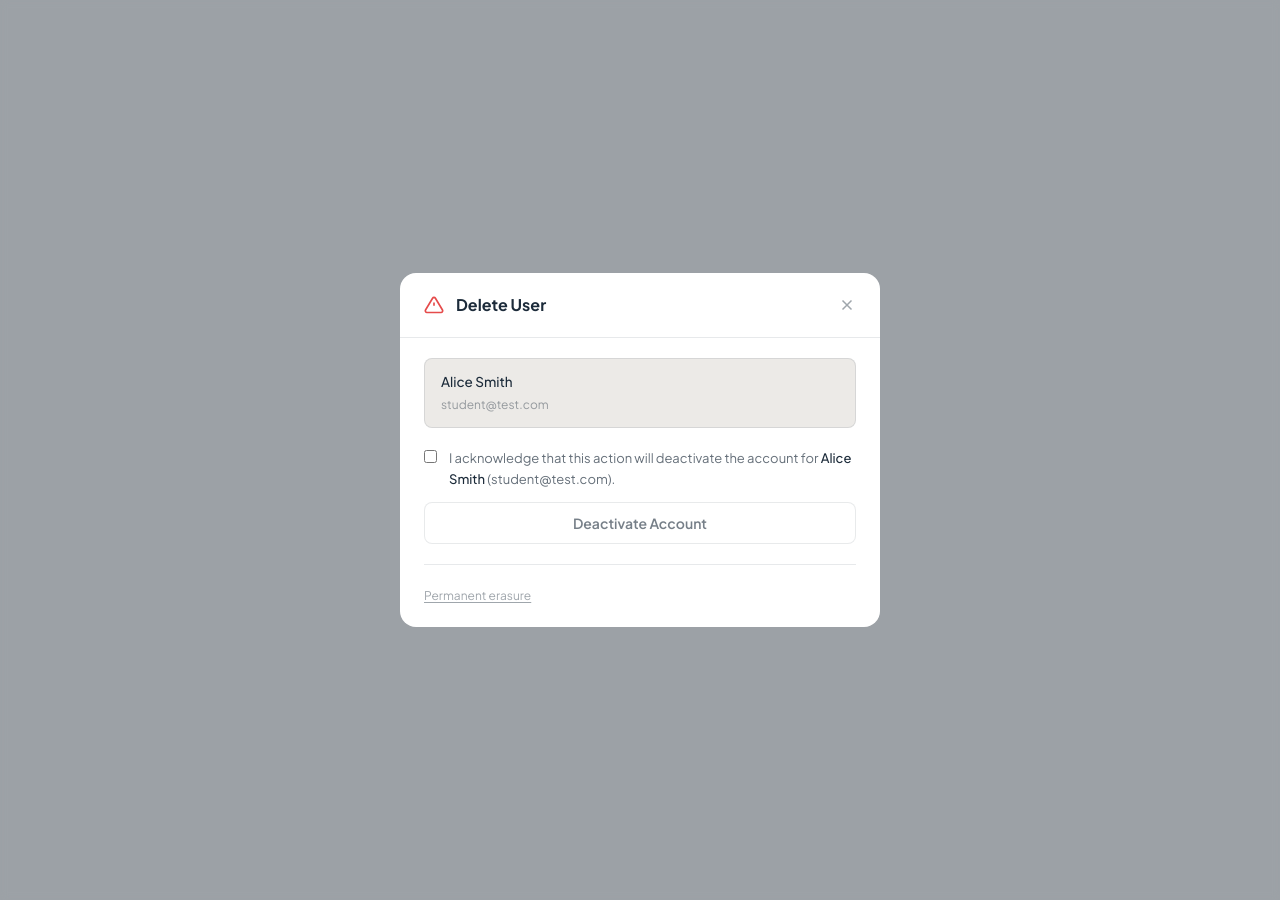
Test: DeleteUserModal › Deactivate Account button enables after ticking the checkbox
This screenshot has width=1280, height=900.
Click the checkbox at (430, 456), box [424,450,437,463]
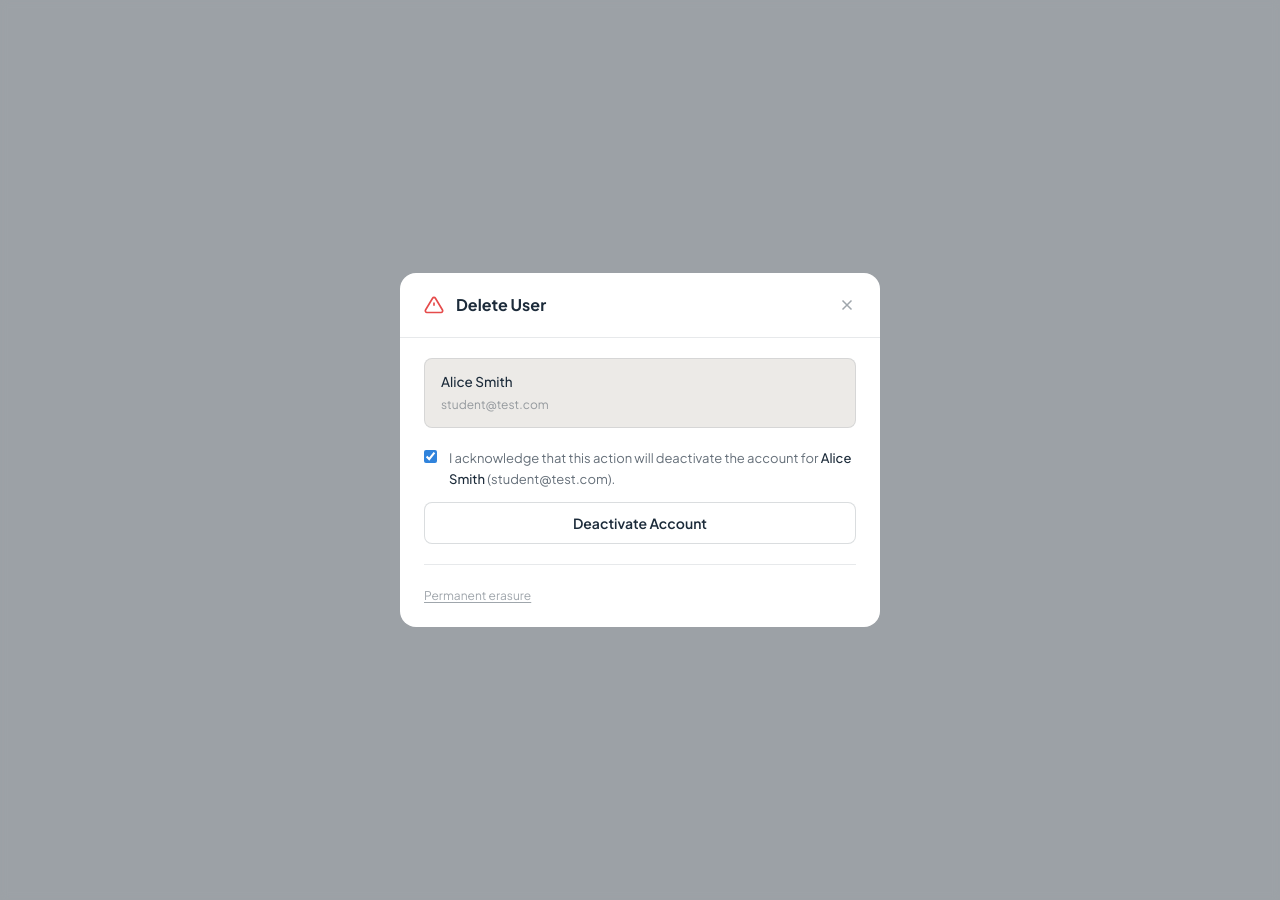
expect the button "Deactivate Account" is enabled: met, box [424,502,856,544]
